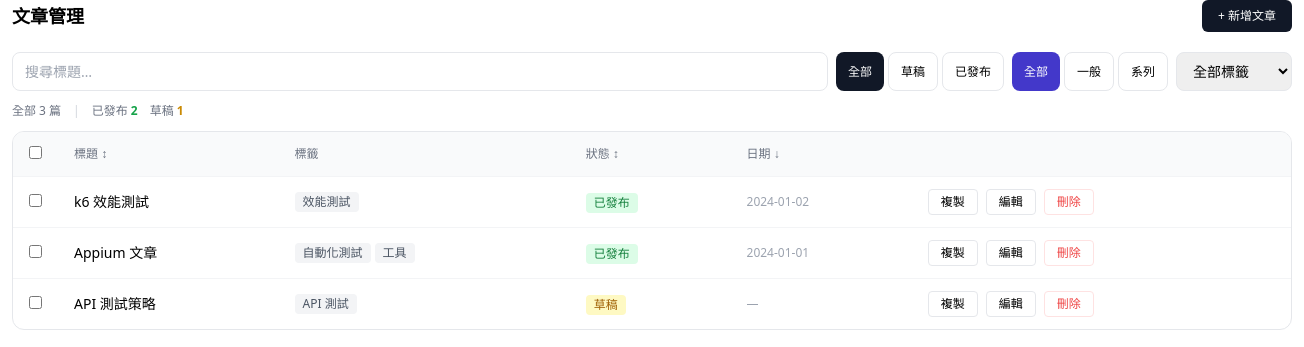
Test: AdminPosts — search and filter › filters posts by search query
Expected: the text "Appium 文章" is shown, [58,228,278,278]
In the field with placeholder "搜尋標題…": (420, 72) [12,52,828,91], type "k6"
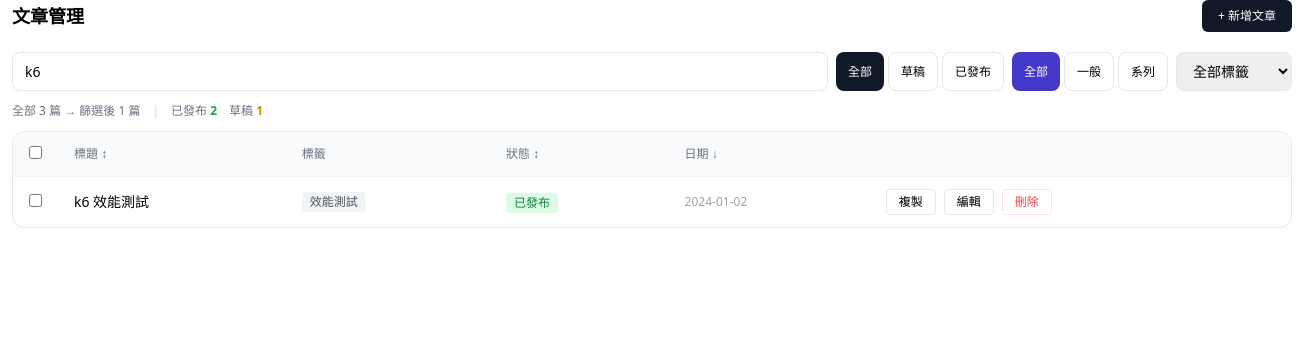
Expected: the text "k6 效能測試" is shown, [58,176,286,227]
Result: the text "Appium 文章" is gone
